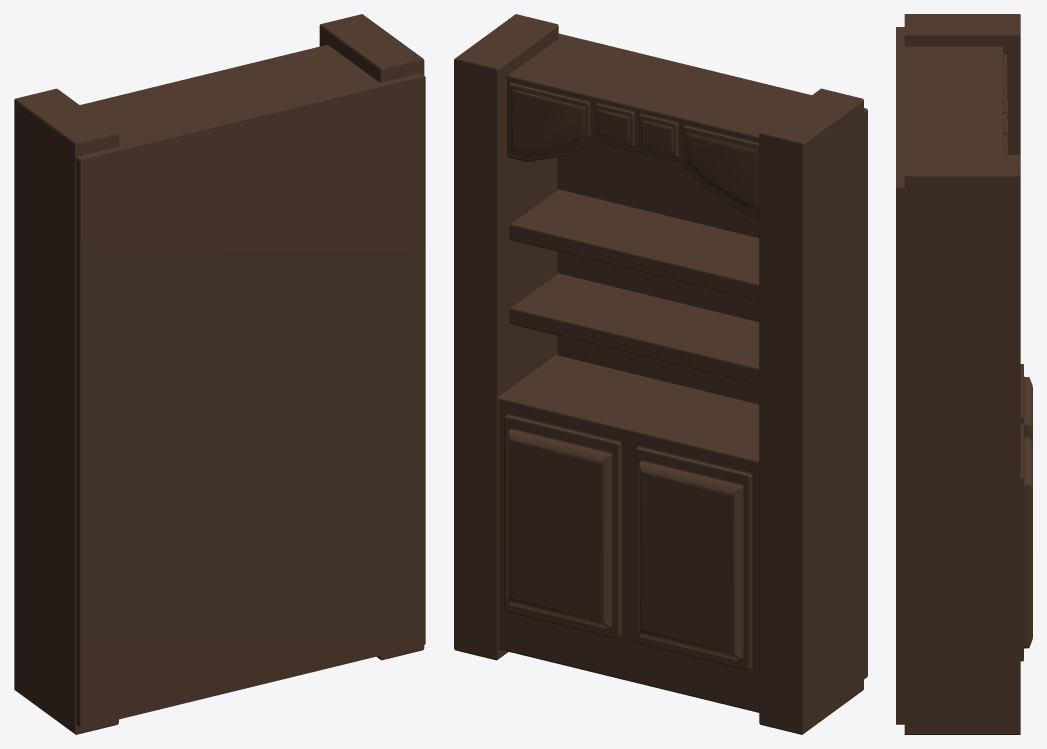
Rendered from Shelf1.fbx.
The picture shows the model from 3 angles, left to right: view 1: azimuth 30°, elevation 25°; view 2: azimuth 150°, elevation 25°; view 3: azimuth 270°, elevation 25°; orthographic projection. The views are drawn at different scales.
Parts seen in each view (by area): view 1: Shelf 1; view 2: Shelf 1; view 3: Shelf 1.
Boxes of the visible parts, bbox=[...] form: Shelf 1: bbox=[14, 14, 425, 734]; Shelf 1: bbox=[454, 14, 867, 734]; Shelf 1: bbox=[896, 14, 1032, 734].
Bounding box in the file's own units: 1.32 × 2.14 × 0.4732.
